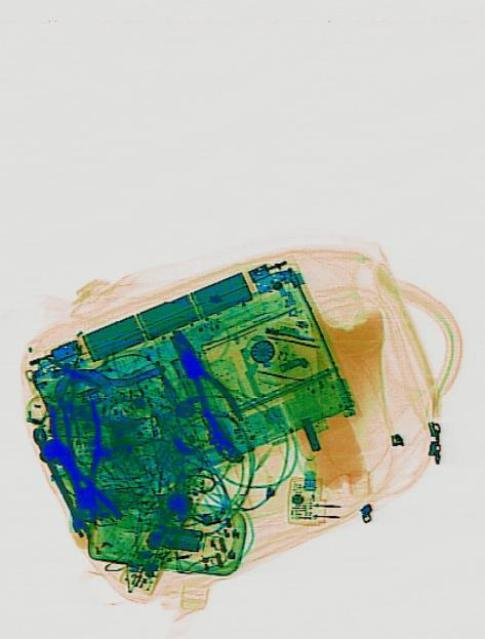Pliers: (156, 317, 259, 466), (59, 399, 105, 526)
Wrench: (27, 421, 88, 538)
